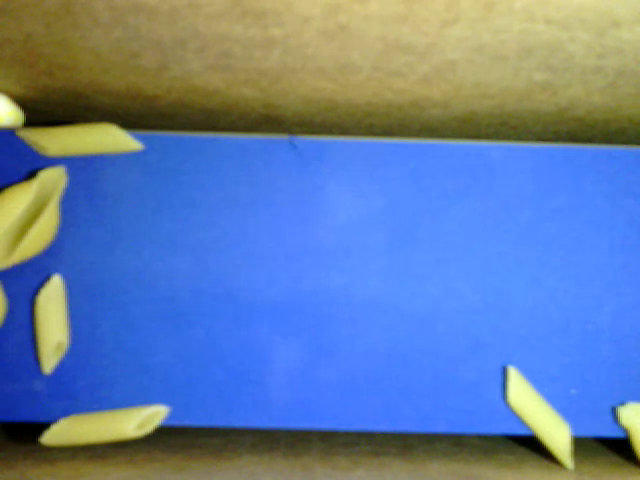penne: (505, 364, 575, 470), (37, 404, 171, 447), (14, 121, 143, 157), (33, 273, 70, 375)
shell: (1, 165, 69, 269)
